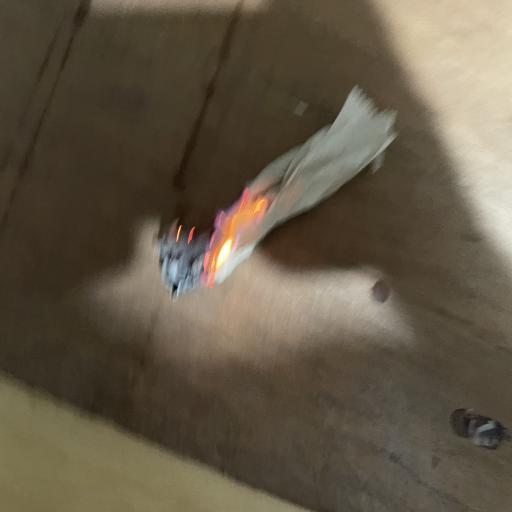fire: (152, 150, 294, 300)
